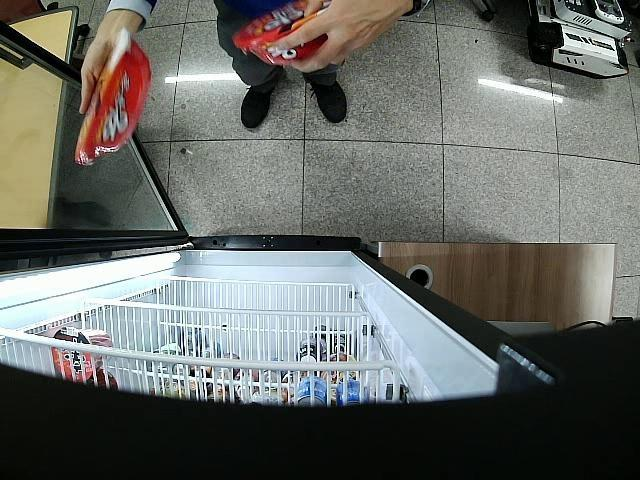10_wangTtukkeong: (76, 28, 151, 164), (233, 0, 332, 64)
